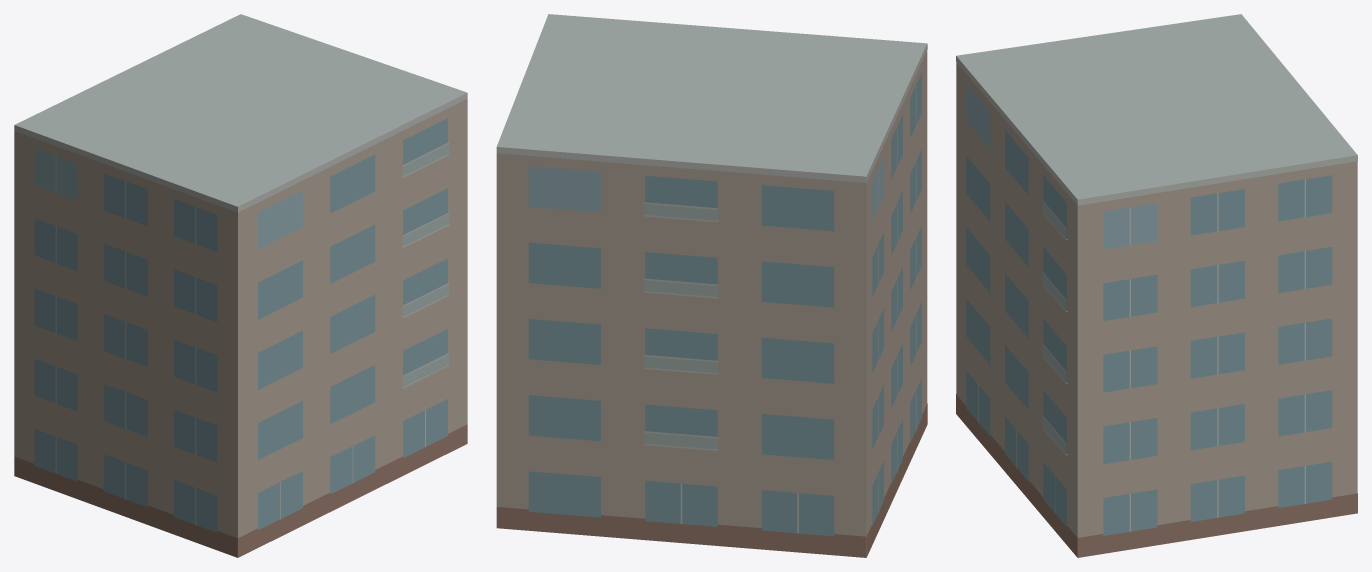
The model's file is survey-upis-33018055.glb.
3 renders of one model, left to right at view 1: azimuth 30°, elevation 25°; view 2: azimuth 150°, elevation 25°; view 3: azimuth 270°, elevation 25°, orthographic. The views are drawn at different scales.
Visible parts, largest first — view 1: survey-upis-33018055.tmp; view 2: survey-upis-33018055.tmp; view 3: survey-upis-33018055.tmp.
Part boxes in pixels (<box>): survey-upis-33018055.tmp: <box>14,14,467,557</box>; survey-upis-33018055.tmp: <box>496,14,927,557</box>; survey-upis-33018055.tmp: <box>956,14,1357,557</box>.
Bounding box in the file's own units: 16.25 × 14.6 × 14.85.
